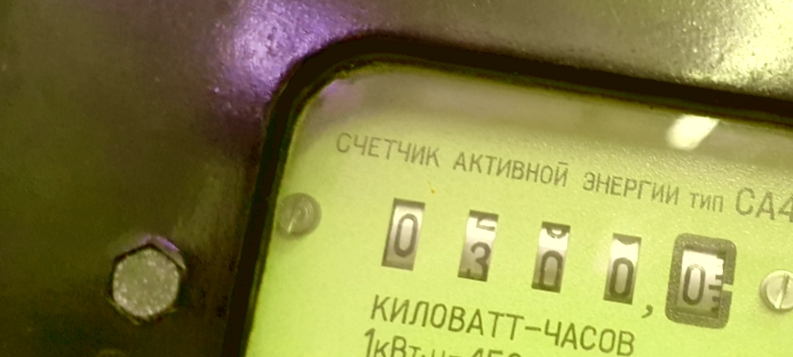0: (675, 257, 710, 309), (388, 206, 421, 261), (601, 252, 636, 302), (531, 243, 565, 294)
3: (459, 235, 494, 282)
screen: (356, 176, 749, 339)
